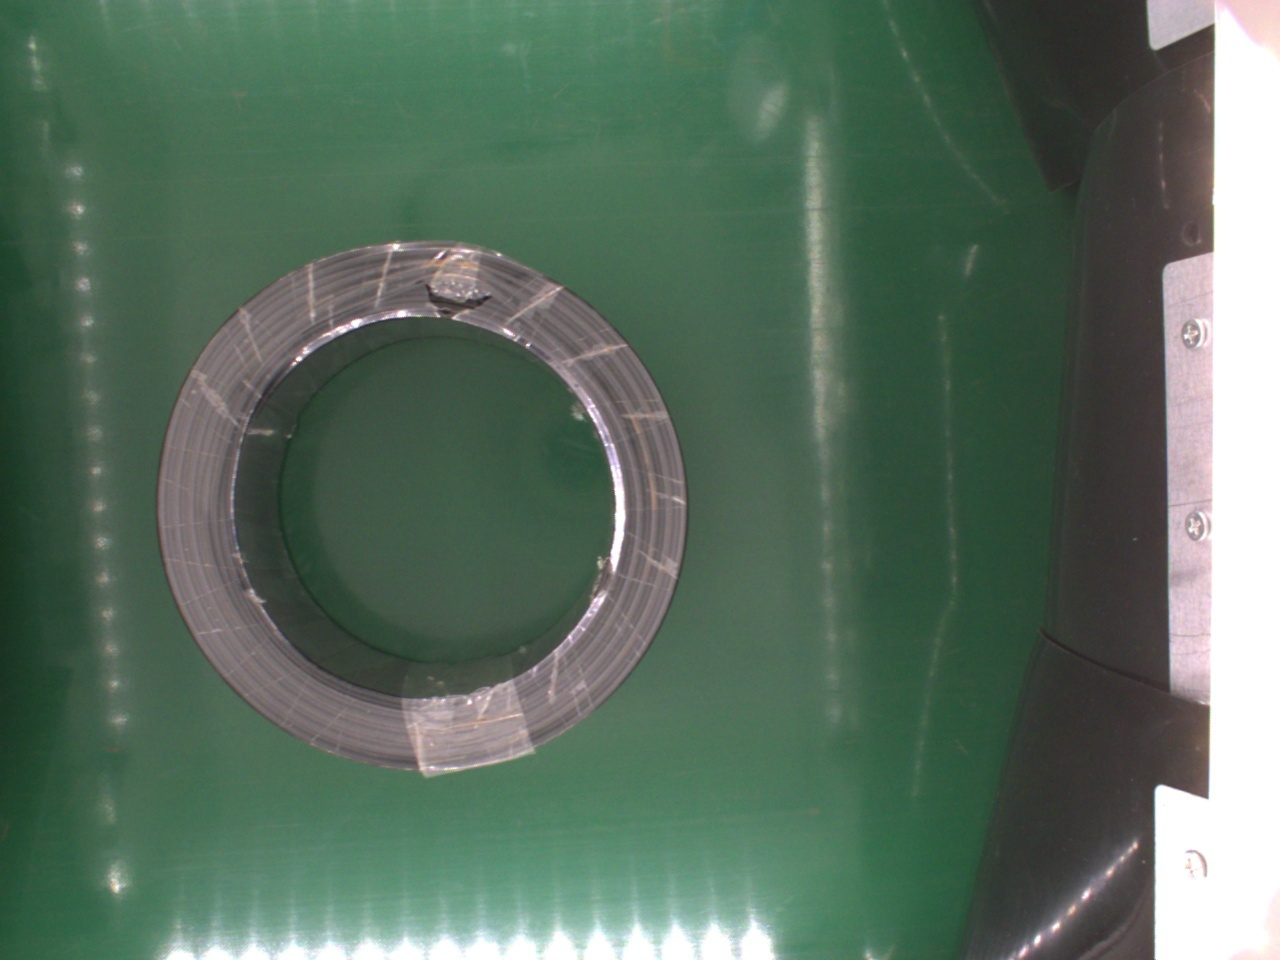black: (150, 242, 684, 764)
